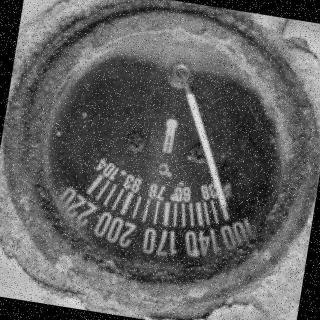gauge: (7, 2, 320, 299), (206, 190, 248, 231), (76, 163, 115, 201), (167, 58, 195, 91), (219, 210, 234, 224)
